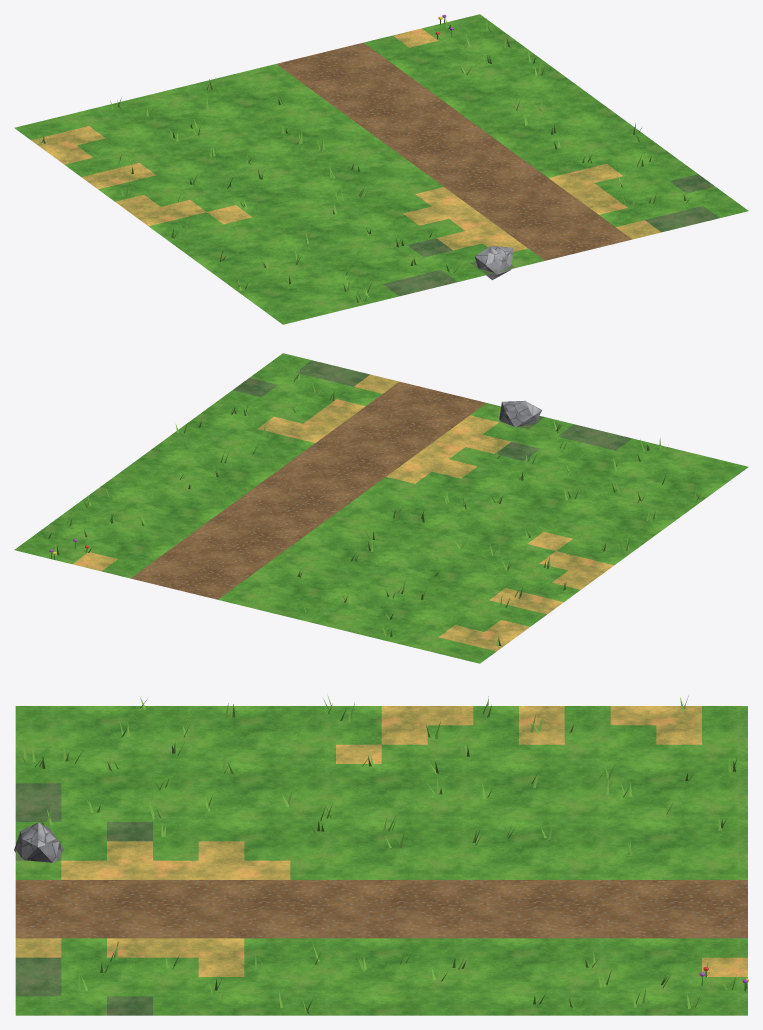
File: chunk_10_13.glb
3 renders of one model, top to bottom at view 1: azimuth 30°, elevation 25°; view 2: azimuth 150°, elevation 25°; view 3: azimuth 270°, elevation 25°, orthographic. The views are drawn at different scales.
Visible parts, largest first — view 1: chunk_10_13; view 2: chunk_10_13; view 3: chunk_10_13.
Boxes of the visible parts, <box> form: chunk_10_13: <box>14,14,748,324</box>; chunk_10_13: <box>14,353,748,663</box>; chunk_10_13: <box>14,696,748,1015</box>.
Size of the model in its own units: 16.04 by 1.09 by 16.06.
Materials: 10 (6 with a texture image).
